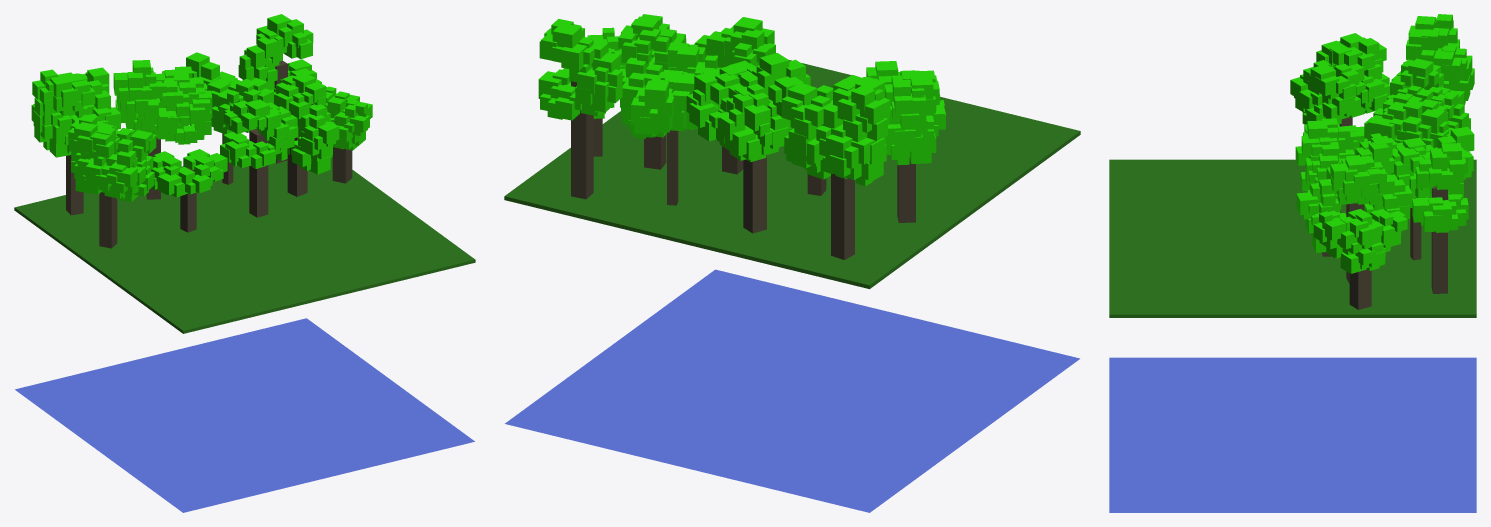
The model's file is 25__tile.fbx.
3 views of the same model, side by side, from view 1: azimuth 30°, elevation 25°; view 2: azimuth 150°, elevation 25°; view 3: azimuth 270°, elevation 25° (orthographic). The views are drawn at different scales.
Visible parts, largest first — view 1: 25__tile; view 2: 25__tile; view 3: 25__tile.
Boxes of the visible parts, x1,y1,x2,y2 form: 25__tile: [14, 14, 475, 512]; 25__tile: [504, 14, 1080, 512]; 25__tile: [1109, 14, 1476, 512].
Size of the model in its own units: 202 by 211 by 200.
